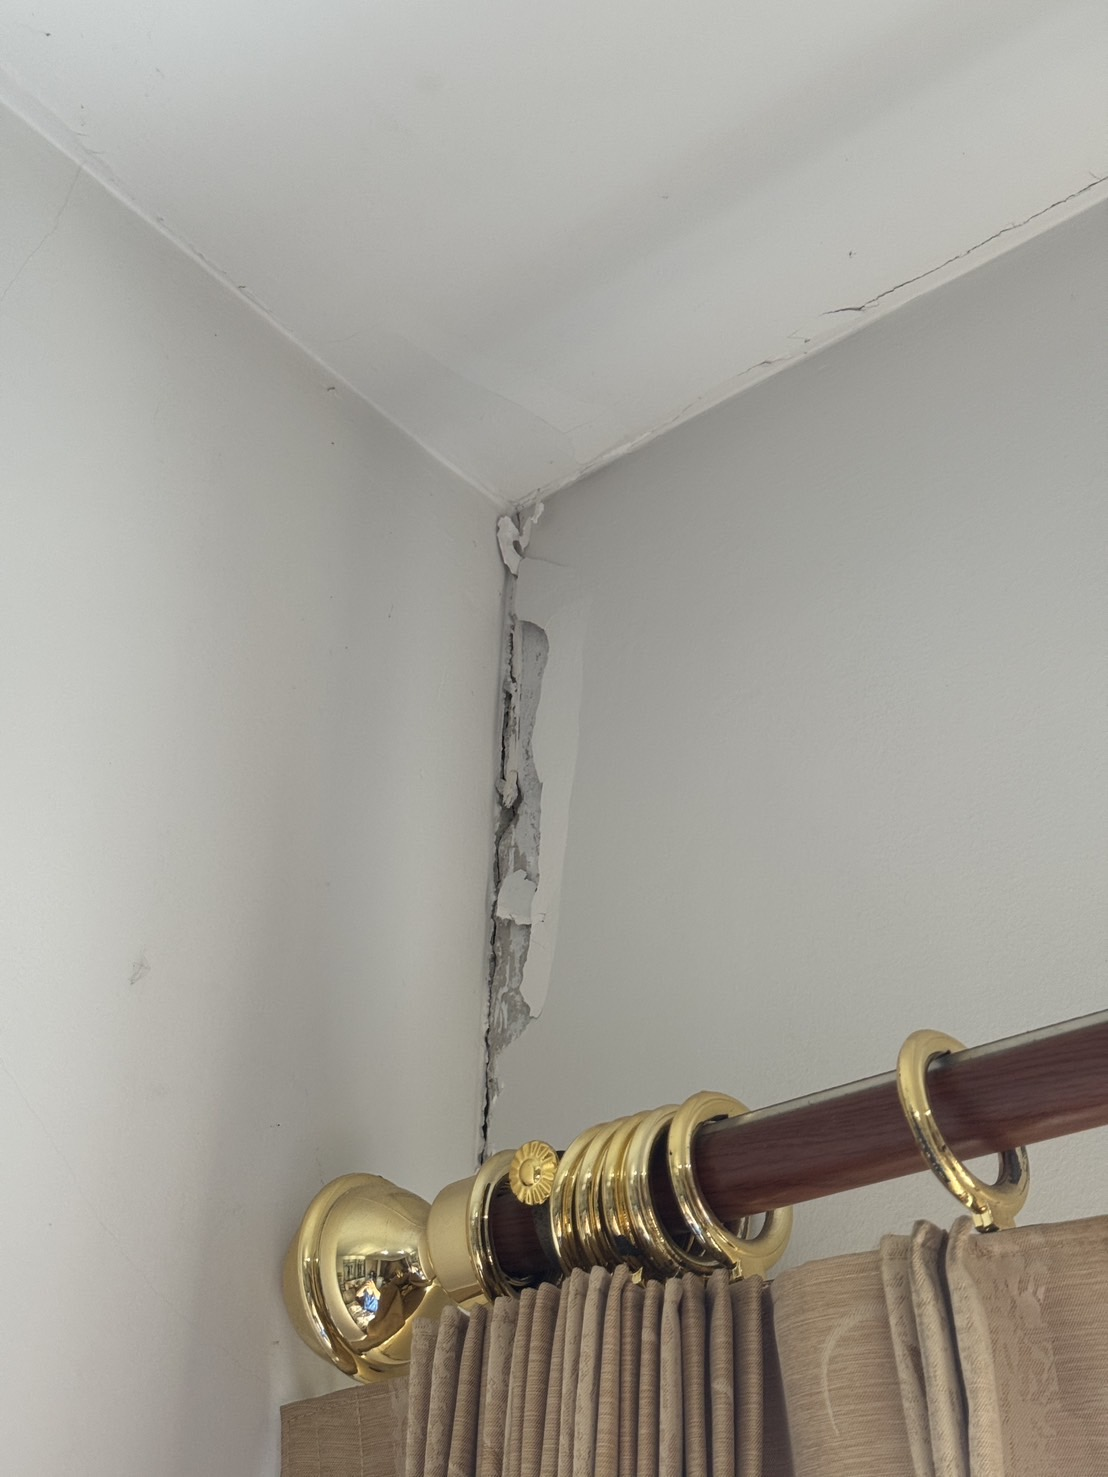Low: (436, 487, 570, 1186)
